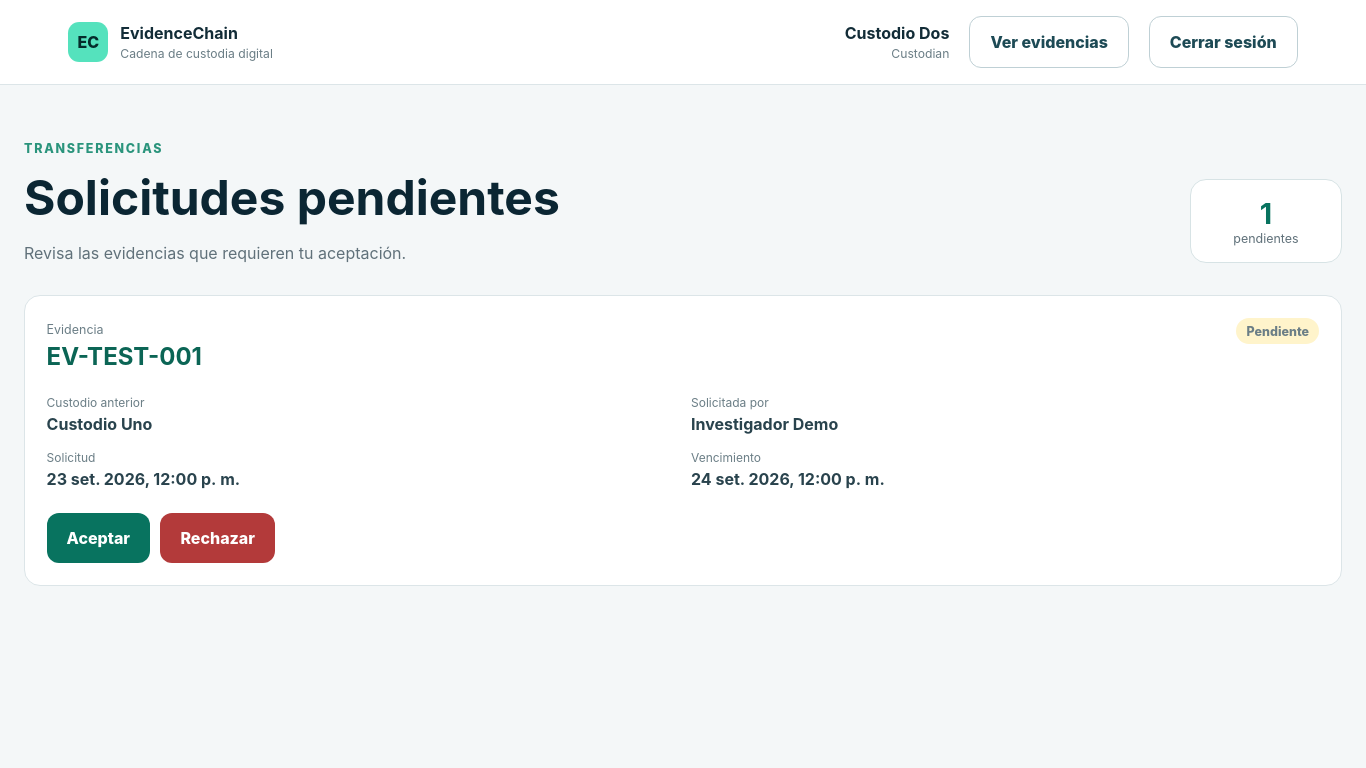
PendingTransfersPage › acepta una transferencia pendiente
Expected: the heading "EV-TEST-001" is shown, top-left (47, 342), bottom-right (202, 371)
Click the button "Aceptar": (98, 538) top-left (47, 513), bottom-right (150, 563)
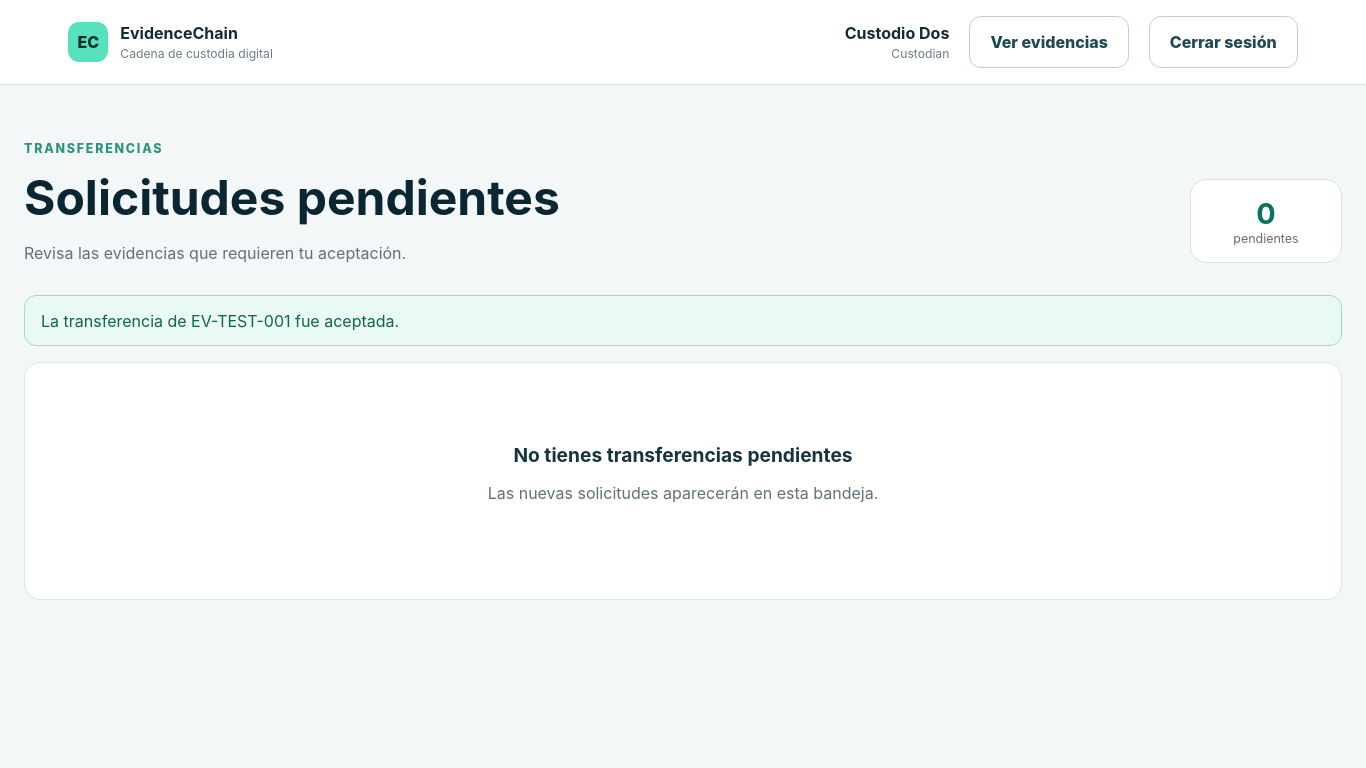
Expected: the text "La transferencia de EV-TEST-001 fue aceptada." is shown, top-left (24, 295), bottom-right (1342, 346)
